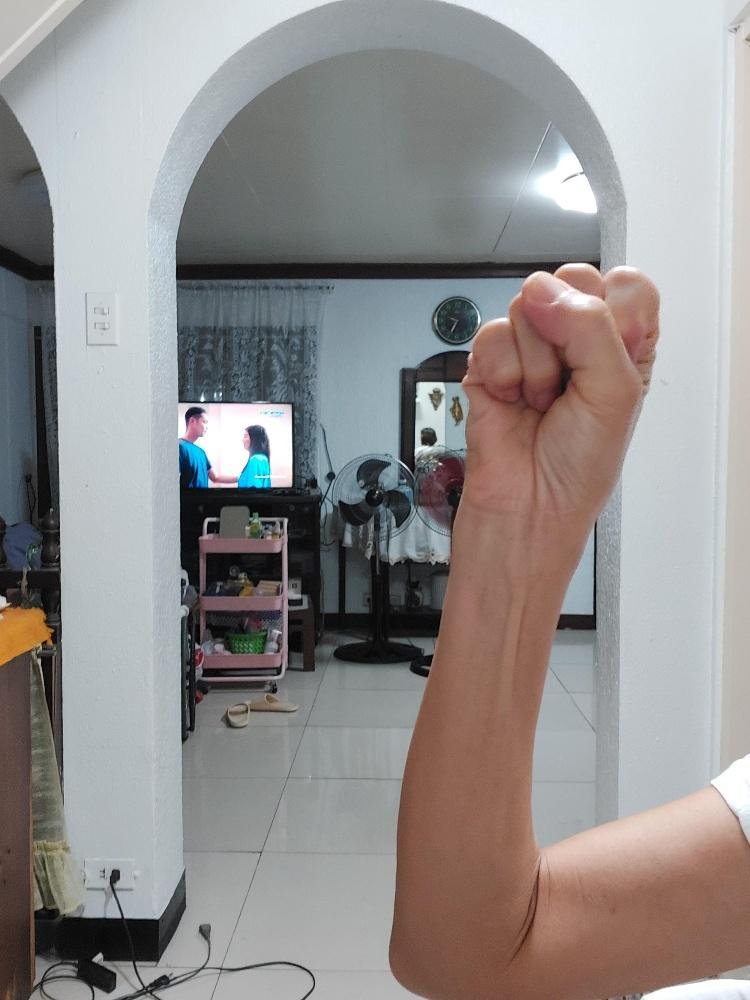s: (460, 261, 659, 518)
